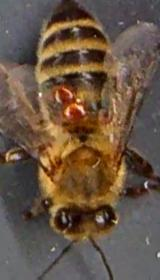varroa_mite: (42, 77, 86, 104), (61, 98, 95, 132)
